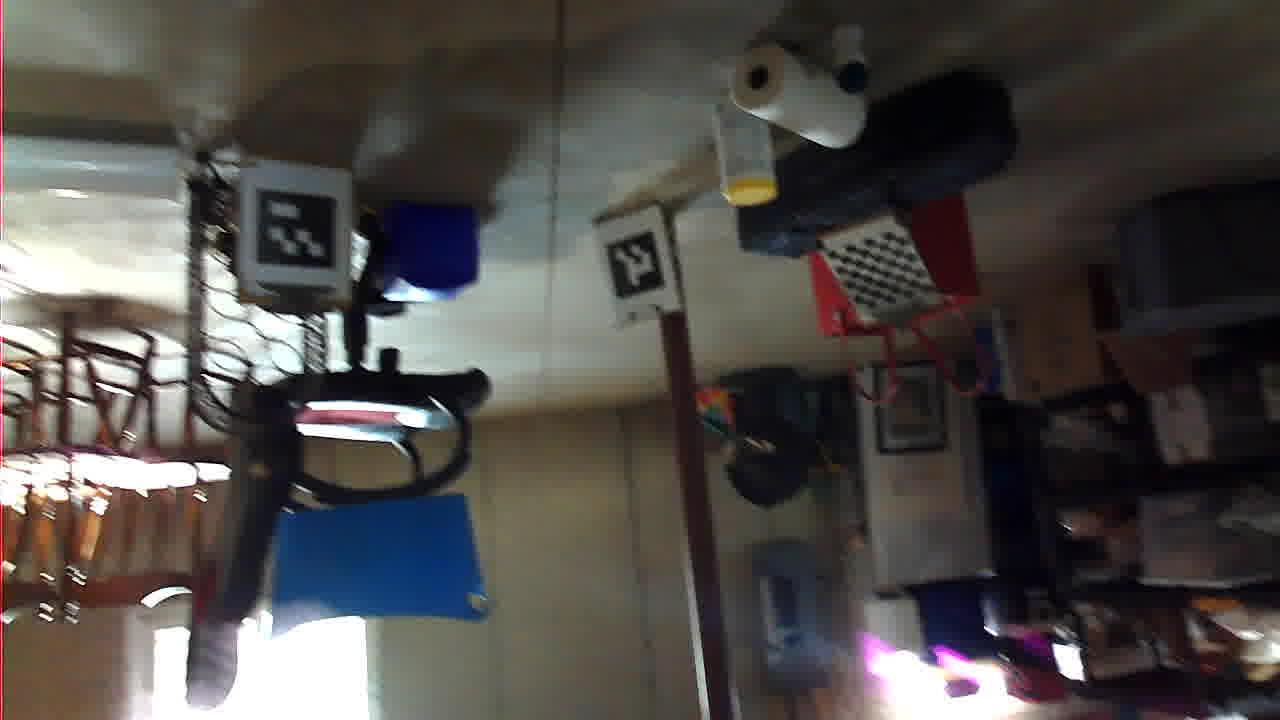coral: (1100, 519, 1280, 588)
